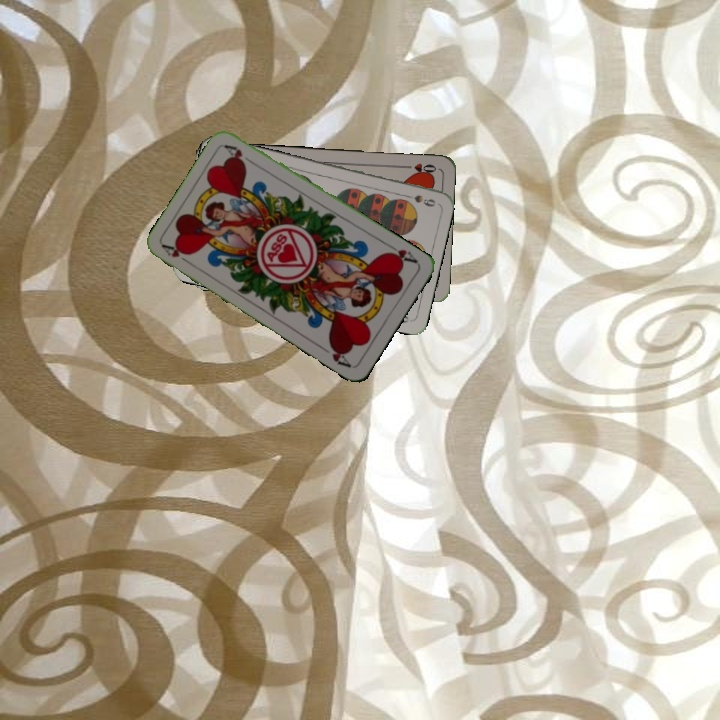HA: (159, 240, 195, 268), (382, 240, 420, 266)
HO: (399, 159, 439, 176)
S9: (398, 190, 438, 209)
